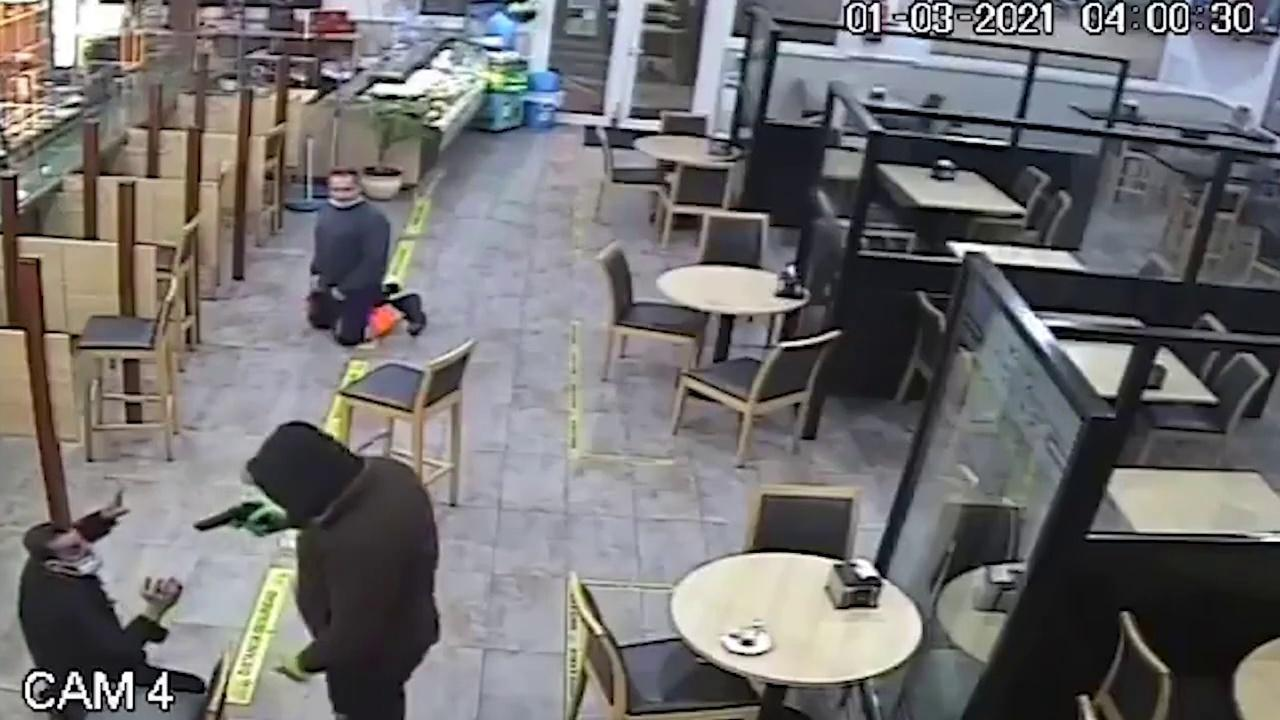Guns perspective: (175, 492, 280, 553)
